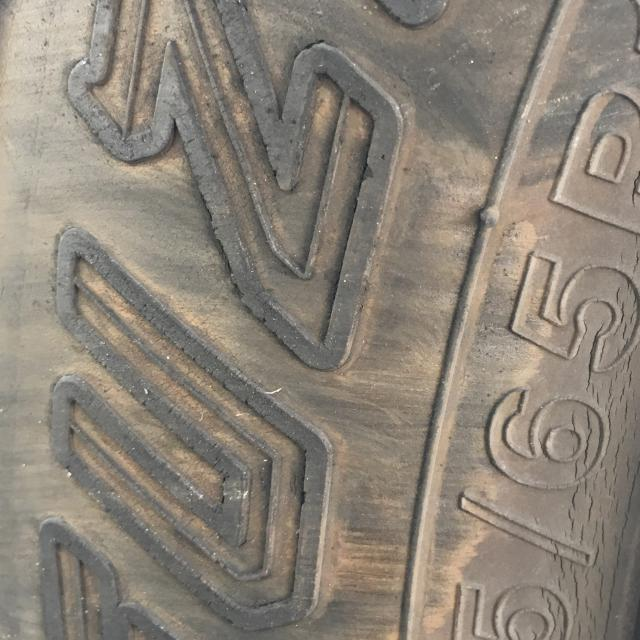Cracks: (516, 136, 640, 640)
